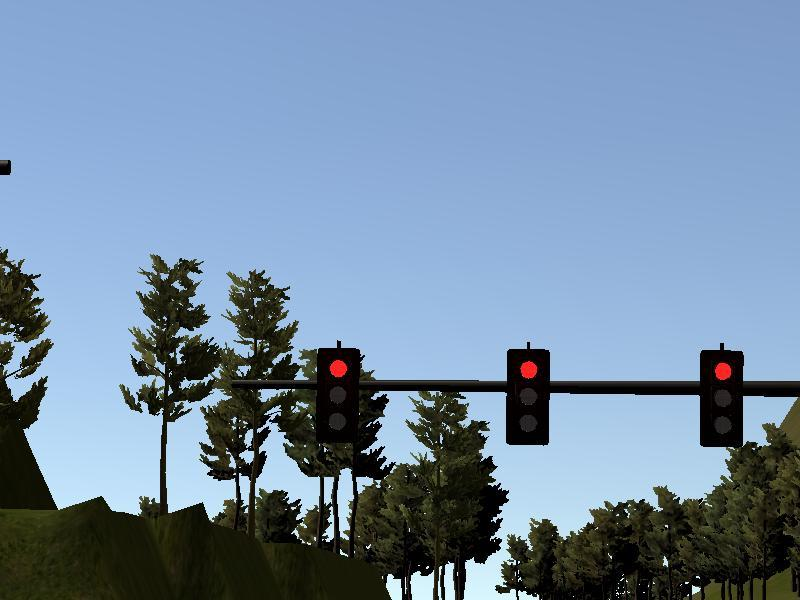Red: (703, 350, 742, 445), (507, 351, 547, 443), (318, 349, 359, 438)
